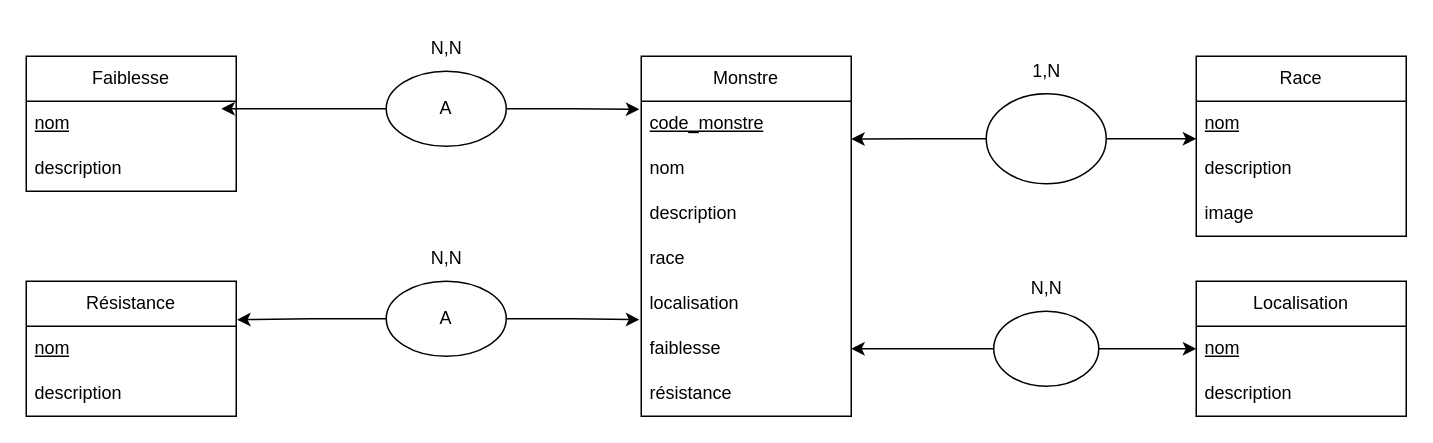
The diagram is 1433 pixels wide and 443 high, and some of its shapes have lost their labels. The box of each missing label's shape, as (x1, y1, x2, y2) in pixels:
Appartient: (985, 92, 1106, 184)
Relier: (992, 310, 1099, 386)
